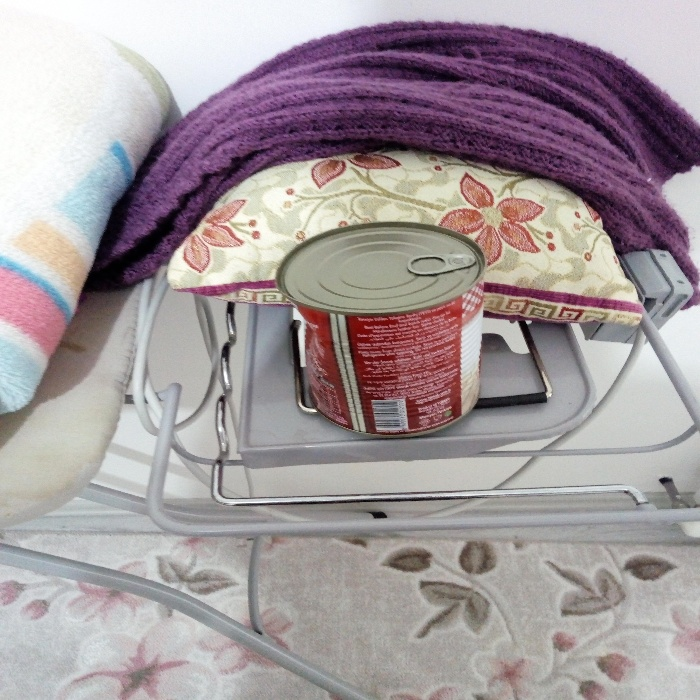salca: (290, 211, 507, 444)
